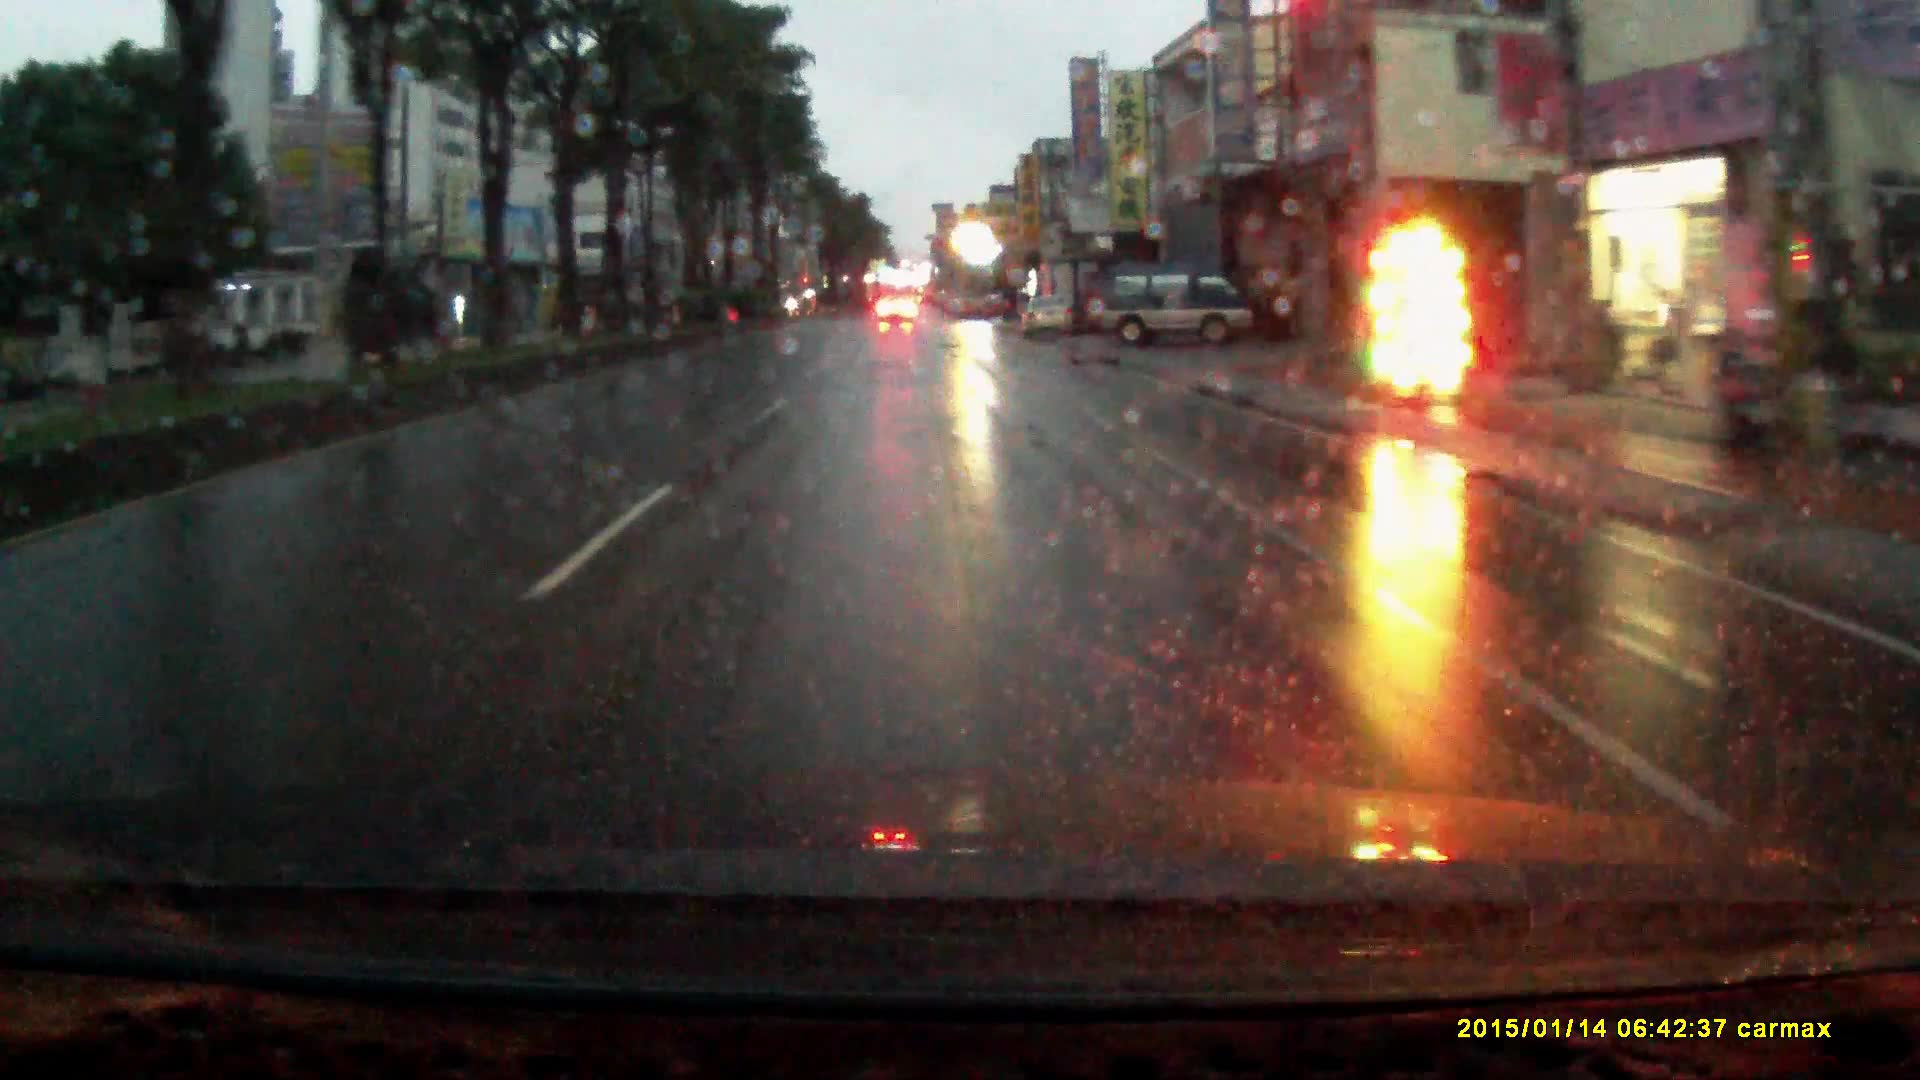vehicle: (1091, 272, 1263, 349), (1034, 247, 1104, 332), (1021, 295, 1077, 336), (877, 297, 919, 324)
